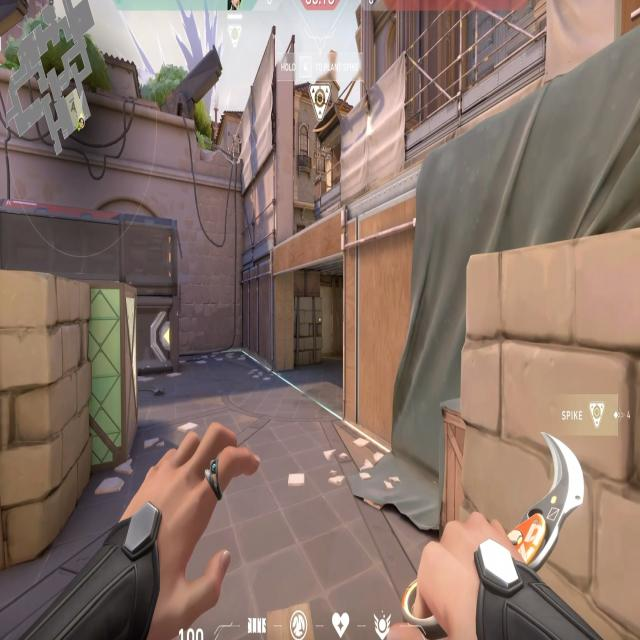A_Heaven_Wall: (242, 63, 294, 243)
A_Hell: (266, 221, 376, 423)
A_Site_Box: (0, 283, 137, 523)
